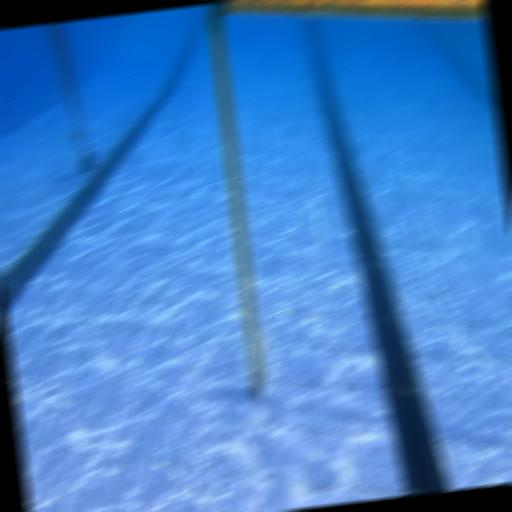gate: (202, 0, 512, 449)
